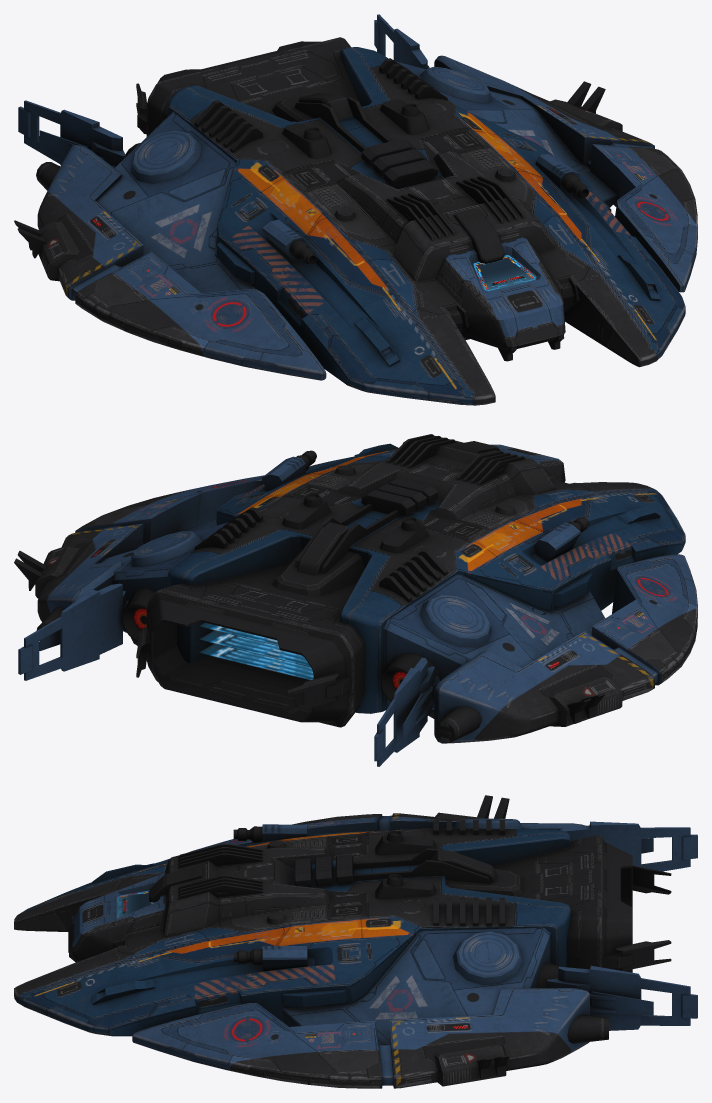
File: SF_Fighter-ZR4.obj
The picture shows the model from 3 angles, top to bottom: view 1: azimuth 30°, elevation 25°; view 2: azimuth 150°, elevation 25°; view 3: azimuth 270°, elevation 25°; orthographic projection. The views are drawn at different scales.
Parts seen in each view (by area): view 1: SF_Fighter_ZR4; view 2: SF_Fighter_ZR4; view 3: SF_Fighter_ZR4.
Boxes of the visible parts, left/top/right/bottom form: SF_Fighter_ZR4: left=14, top=14, right=697, bottom=405; SF_Fighter_ZR4: left=14, top=434, right=697, bottom=766; SF_Fighter_ZR4: left=14, top=795, right=697, bottom=1088.
Bounding box in the file's own units: 363 × 95.27 × 396.
1 material, 1 textured.
